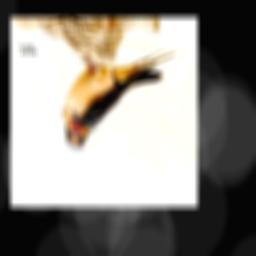Swallow: (61, 44, 176, 152)
